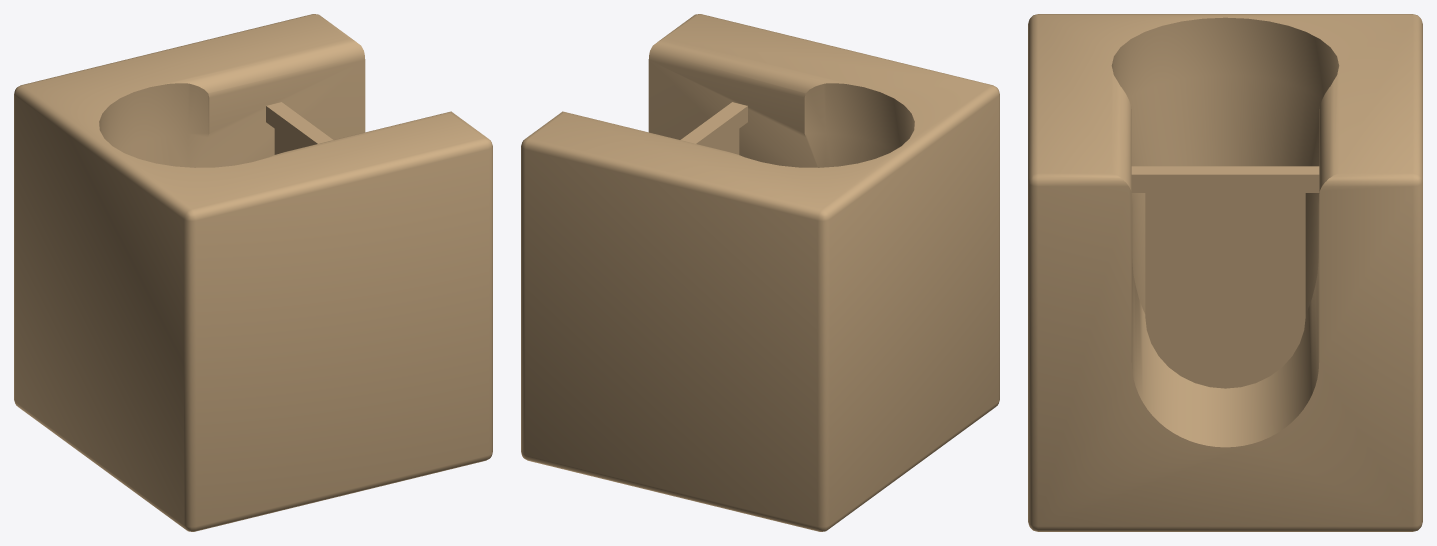
The model's file is mech_hopper.glb.
3 views of the same model, side by side, from view 1: azimuth 30°, elevation 25°; view 2: azimuth 150°, elevation 25°; view 3: azimuth 270°, elevation 25° (orthographic). The views are drawn at different scales.
Parts seen in each view (by area): view 1: mech_hopper_lod0, anim_gate_lod0; view 2: mech_hopper_lod0, anim_gate_lod0; view 3: mech_hopper_lod0, anim_gate_lod0.
Part boxes in pixels (<box>): mech_hopper_lod0: <box>14,14,492,531</box>; anim_gate_lod0: <box>266,102,333,154</box>; mech_hopper_lod0: <box>521,14,999,531</box>; anim_gate_lod0: <box>680,102,747,154</box>; mech_hopper_lod0: <box>1028,14,1422,531</box>; anim_gate_lod0: <box>1131,166,1319,388</box>.
Size of what is drawn, in the model's own units: 0.059 by 0.059 by 0.059.
